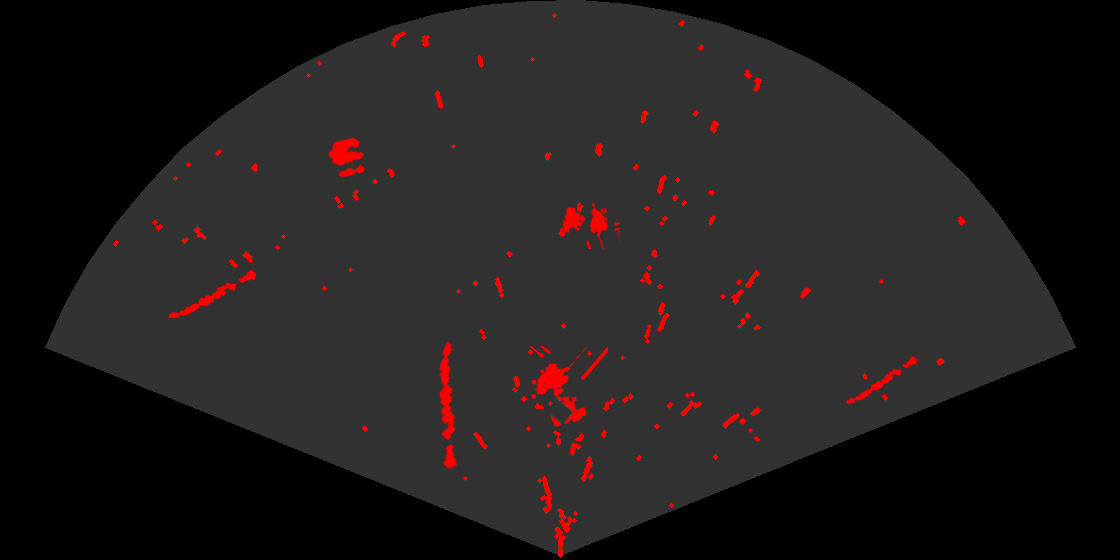ball: (327, 136, 367, 179)
cage: (528, 346, 608, 428), (561, 201, 620, 249)
chain: (167, 268, 258, 320), (844, 350, 927, 406), (437, 340, 459, 471)
